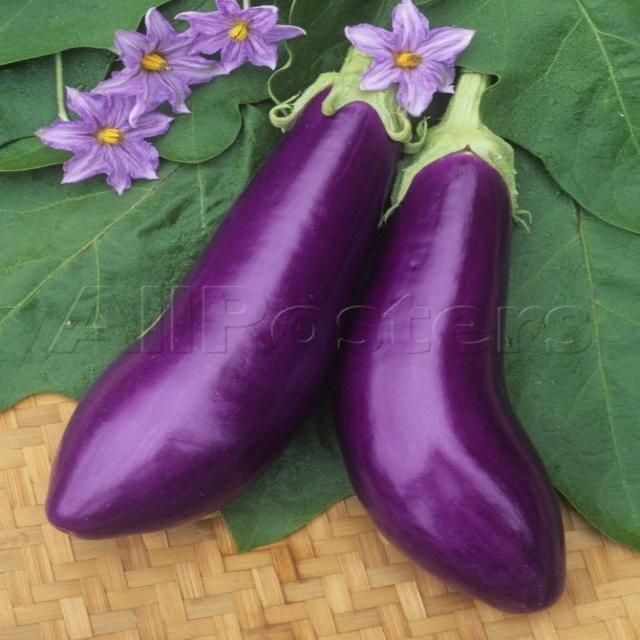Eggplant: (45, 7, 561, 608)
